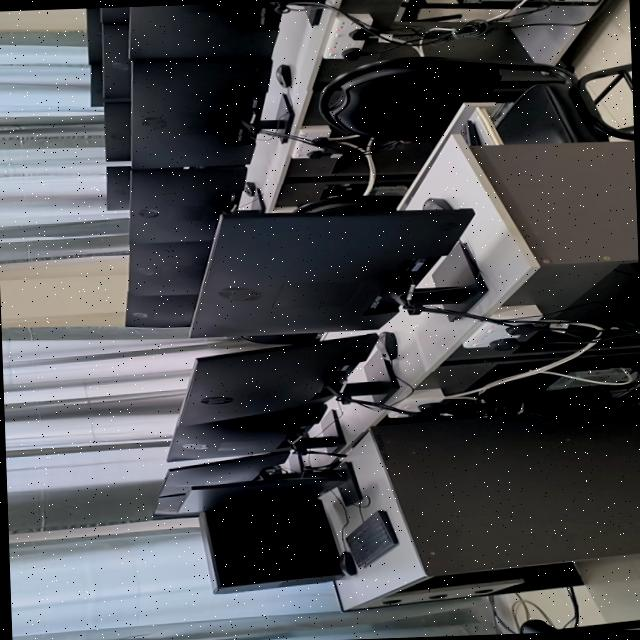Chair: (318, 56, 634, 143), (293, 195, 400, 213), (240, 332, 318, 344)
Cpu: (519, 353, 640, 391), (345, 183, 409, 197), (455, 0, 599, 5)
Keyboard: (344, 510, 396, 567)
Monitor: (189, 208, 486, 336), (178, 332, 377, 425), (131, 59, 269, 168), (128, 0, 324, 59), (166, 403, 343, 462), (176, 462, 360, 512), (128, 166, 244, 243), (161, 451, 288, 494), (127, 237, 210, 295), (124, 292, 196, 327), (101, 23, 130, 100), (103, 101, 129, 161), (105, 166, 129, 210), (85, 8, 100, 65), (153, 493, 190, 514), (88, 63, 102, 106), (99, 7, 127, 23)
Mouse: (374, 332, 396, 360), (338, 550, 355, 575), (274, 64, 290, 88), (420, 197, 450, 209), (244, 182, 254, 196)
